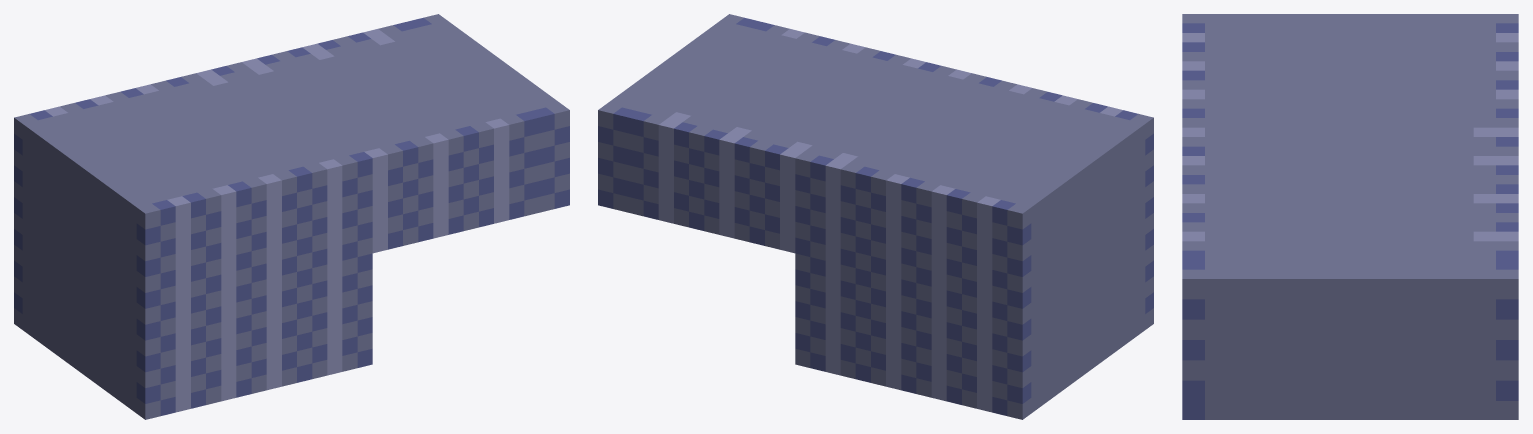
File: torreD_3.obj
3 views of the same model, side by side, from view 1: azimuth 30°, elevation 25°; view 2: azimuth 150°, elevation 25°; view 3: azimuth 270°, elevation 25° (orthographic). The views are drawn at different scales.
Size of the model in its own units: 2.8 by 1.3 by 1.5.
